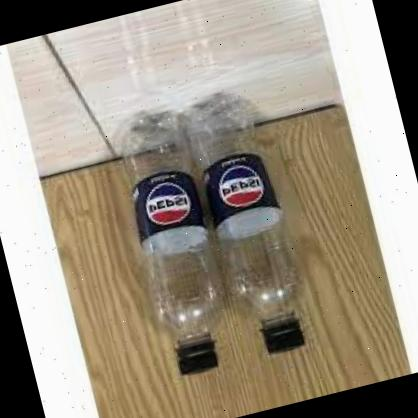bottle: (109, 107, 244, 380), (181, 88, 314, 365)
cap: (256, 312, 308, 356), (174, 335, 224, 378)
label: (125, 166, 208, 250), (200, 148, 276, 228)
